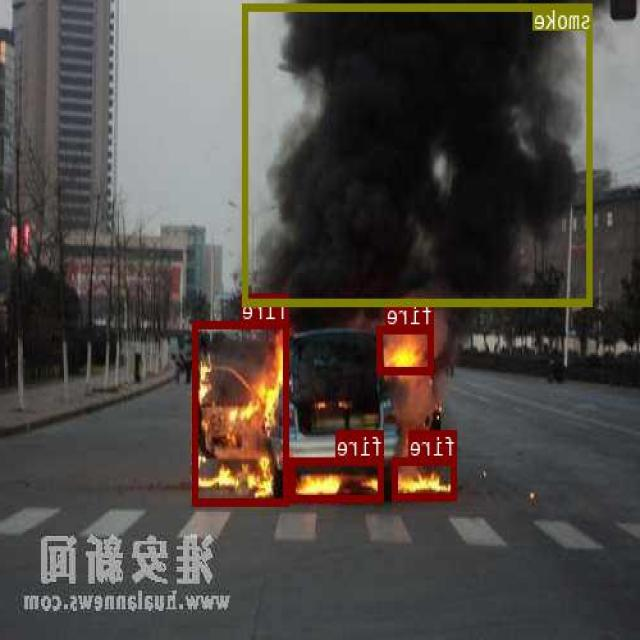fire: (194, 320, 290, 504), (291, 457, 385, 500), (393, 457, 458, 499), (378, 325, 434, 373)
smoke: (244, 2, 594, 305)
